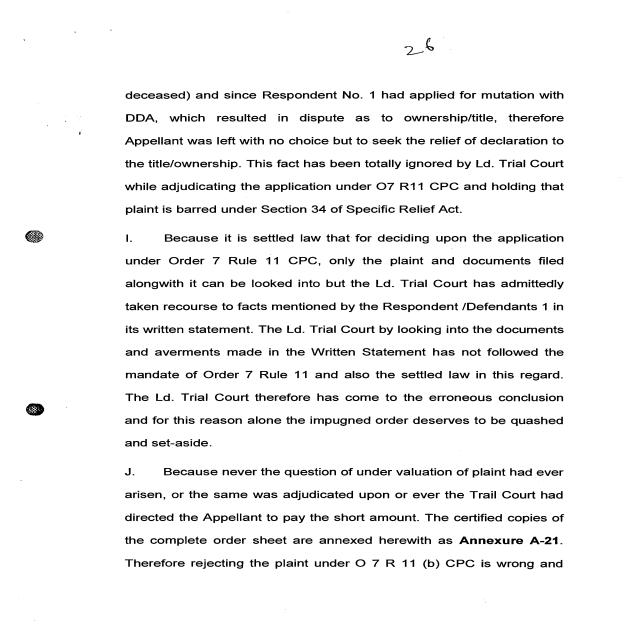page-number: (340, 16, 622, 74)
